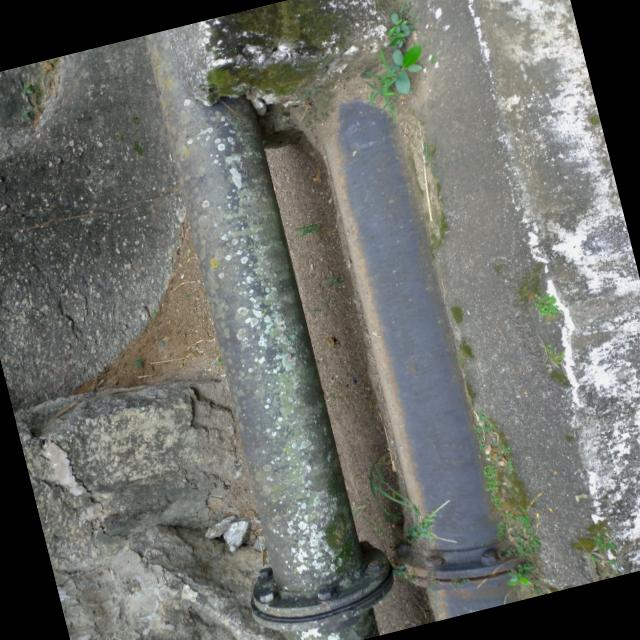gas: (166, 100, 376, 640), (315, 103, 509, 619)
